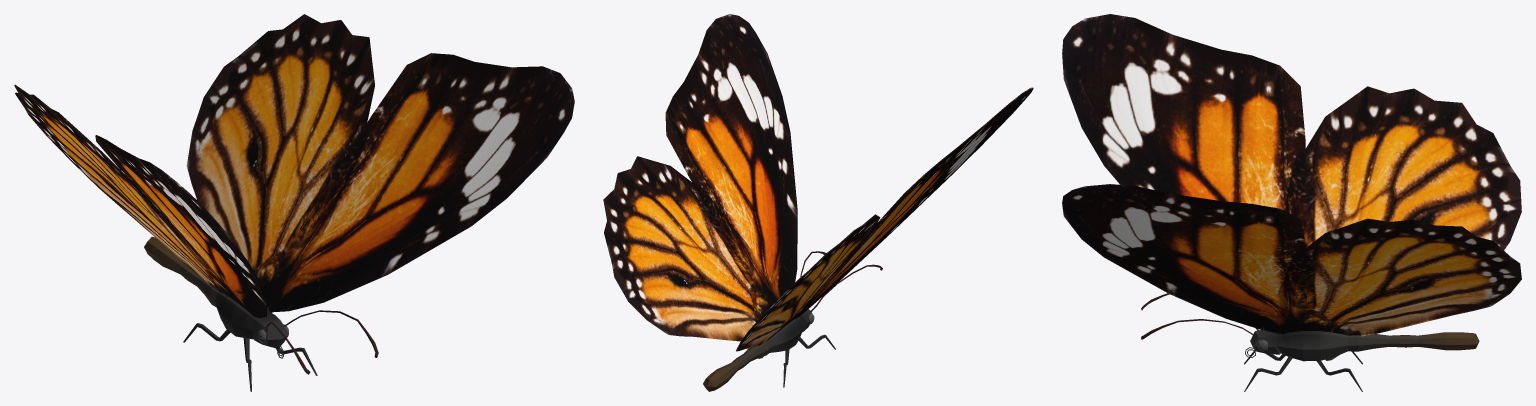
Rendered from Butterfly.glb.
3 renders of one model, left to right at view 1: azimuth 30°, elevation 25°; view 2: azimuth 150°, elevation 25°; view 3: azimuth 270°, elevation 25°, orthographic. The views are drawn at different scales.
Visible parts, largest first — view 1: Node; view 2: Node; view 3: Node.
Part boxes in pixels (x1,y1,x2,y2): Node: (14,14,574,391); Node: (603,14,1033,391); Node: (1062,14,1521,391).
Bounding box in the file's own units: 16.25 × 12.37 × 18.47.
4 materials, 1 textured.
